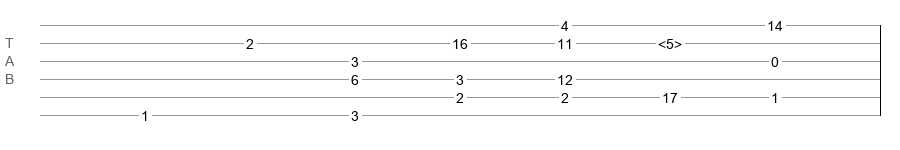0: (771, 54, 779, 64)
1: (141, 108, 149, 118), (771, 90, 779, 100)
11: (557, 36, 573, 46)
12: (557, 72, 573, 82)
14: (767, 18, 783, 28)
16: (452, 36, 468, 46)
17: (662, 90, 678, 100)
2: (246, 36, 254, 46), (456, 90, 464, 100), (561, 90, 569, 100)
3: (351, 54, 359, 64), (351, 108, 359, 118), (456, 72, 464, 82)
4: (561, 18, 569, 28)
6: (351, 72, 359, 82)
harmonic: (658, 36, 682, 46)
